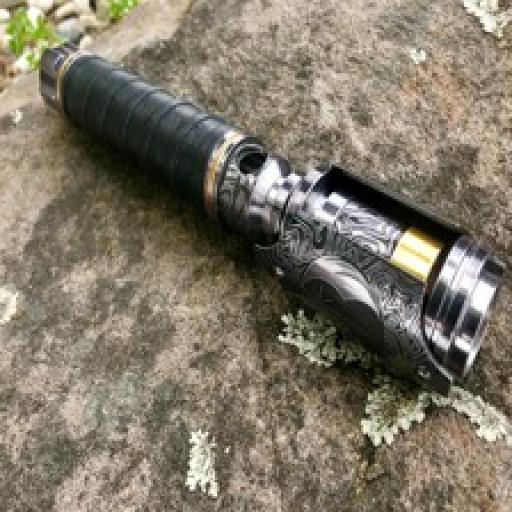lightsaber: (36, 41, 506, 406)
